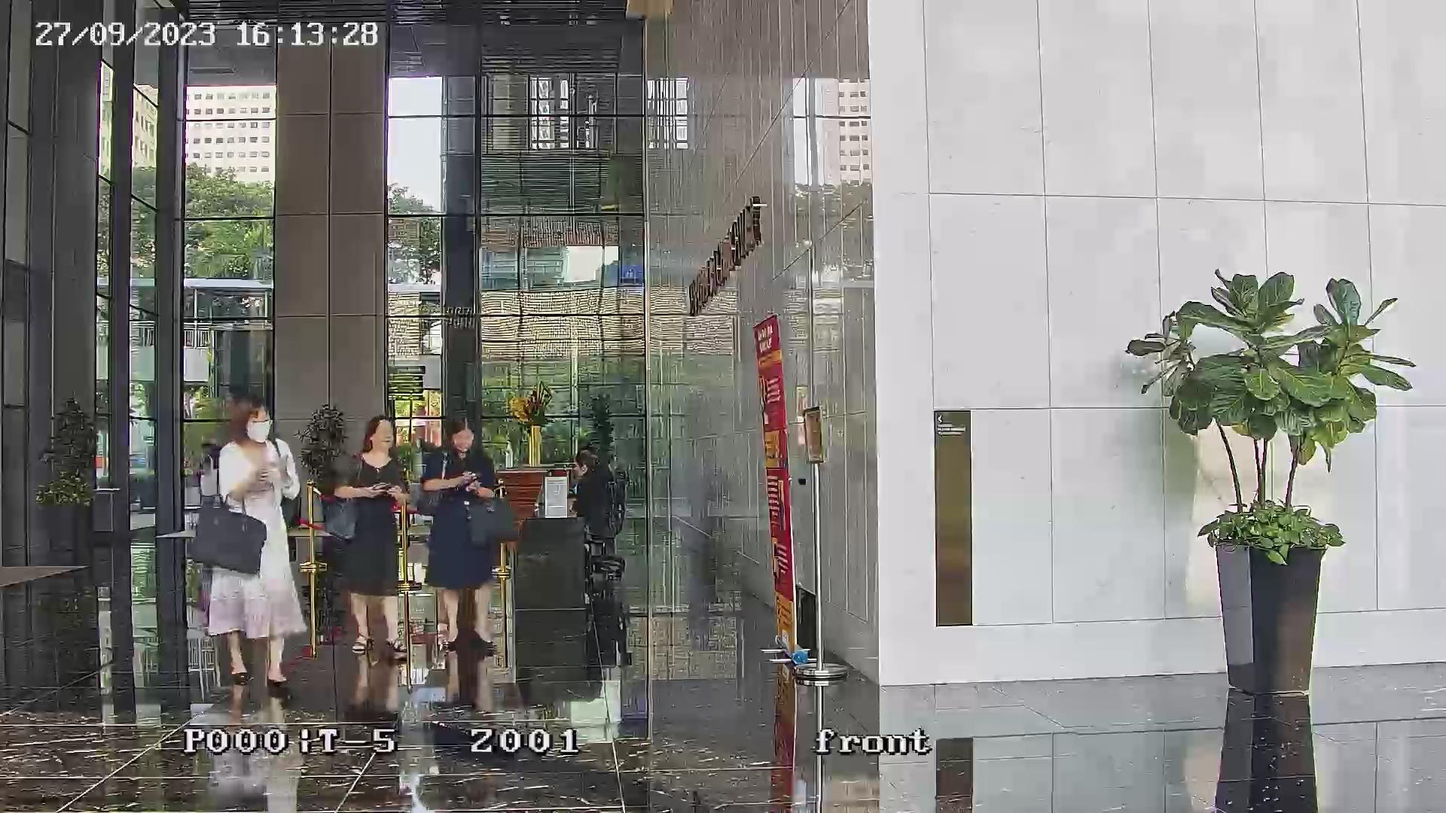person: (203, 390, 308, 699), (323, 415, 414, 659), (418, 417, 501, 653), (571, 446, 612, 532)
